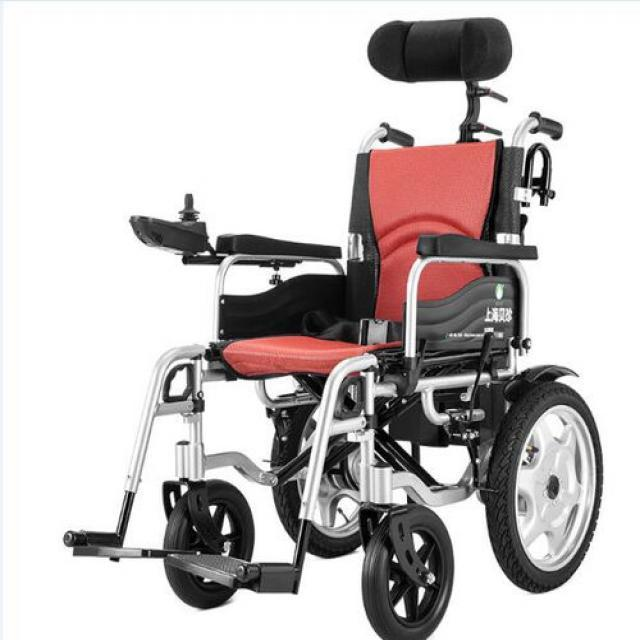wheelchair: (61, 8, 608, 639)
